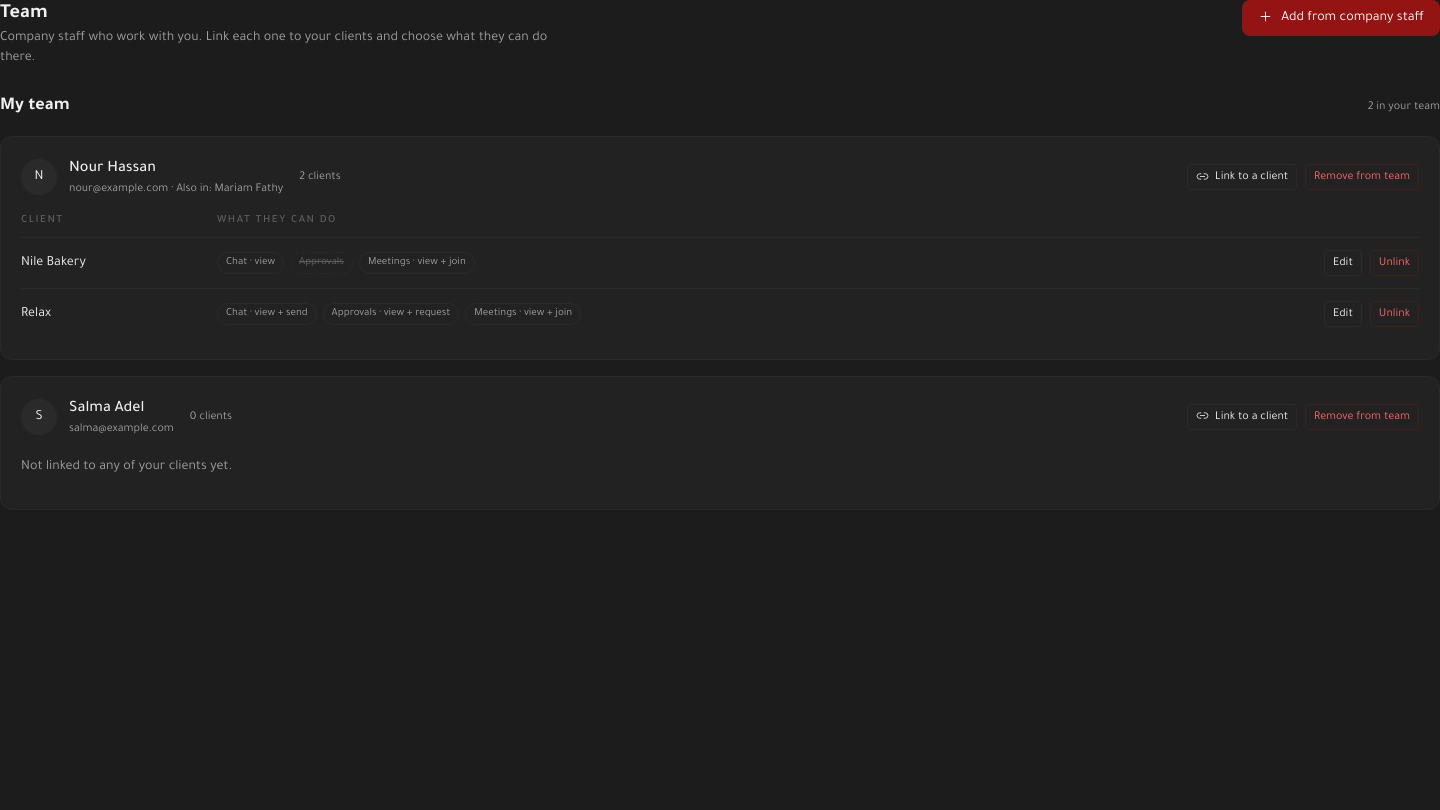
Test case: Team page (classic look) › links a member to a client with the default permissions (everything on)
Click the button "Link to a client" in the row of "0 clients" at (1242, 417), box [1187,404,1297,430]
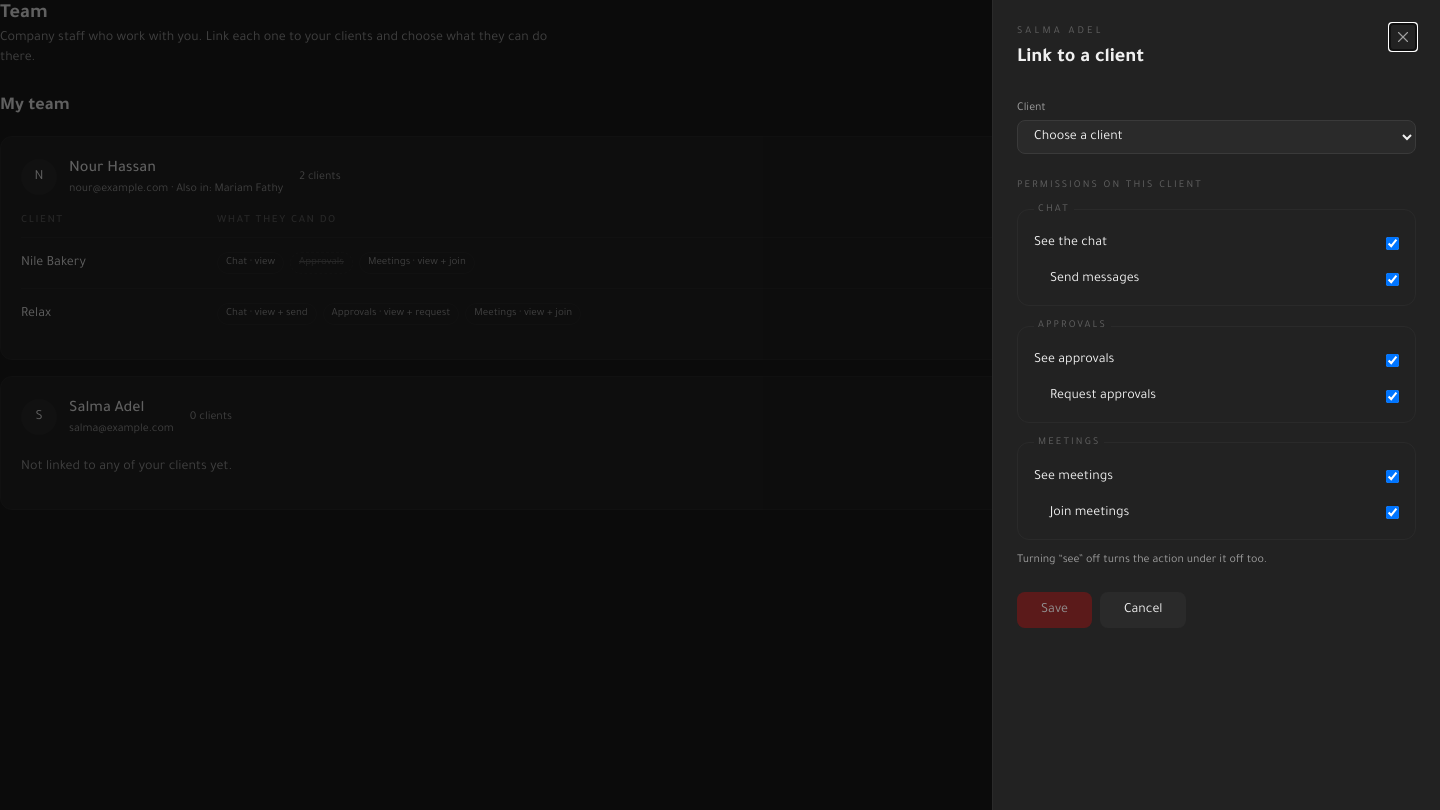
expect the switch labelled "See the chat" is checked: met, box [1386,237,1399,250]
expect the switch labelled "Send messages" is checked: met, box [1386,273,1399,286]
expect the switch labelled "See approvals" is checked: met, box [1386,354,1399,366]
Select "Sun Co" in the dropdown labelled "Client" at (1216, 137), box [1017,120,1416,154]
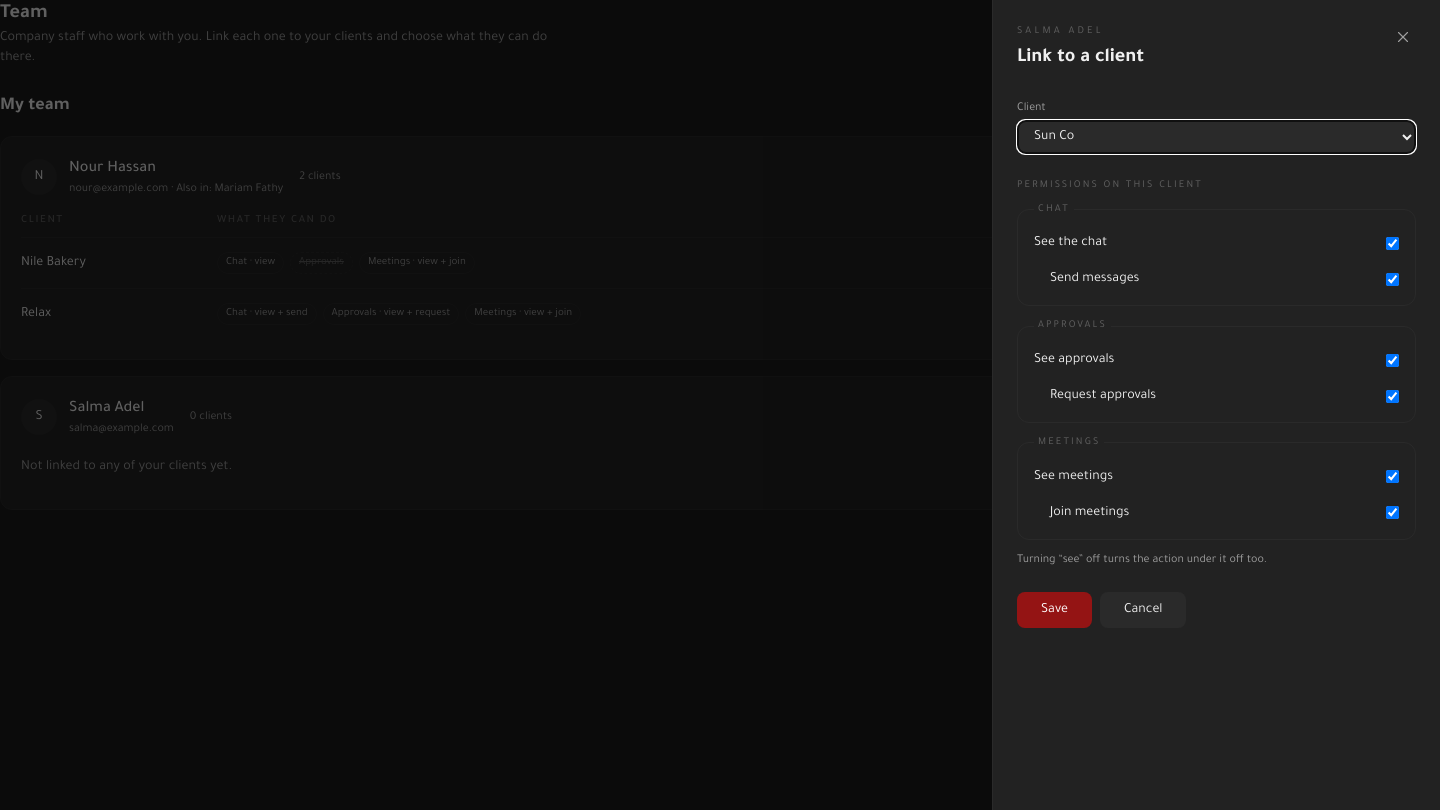
Click the button "Save" at (1054, 610), box [1017,592,1092,628]
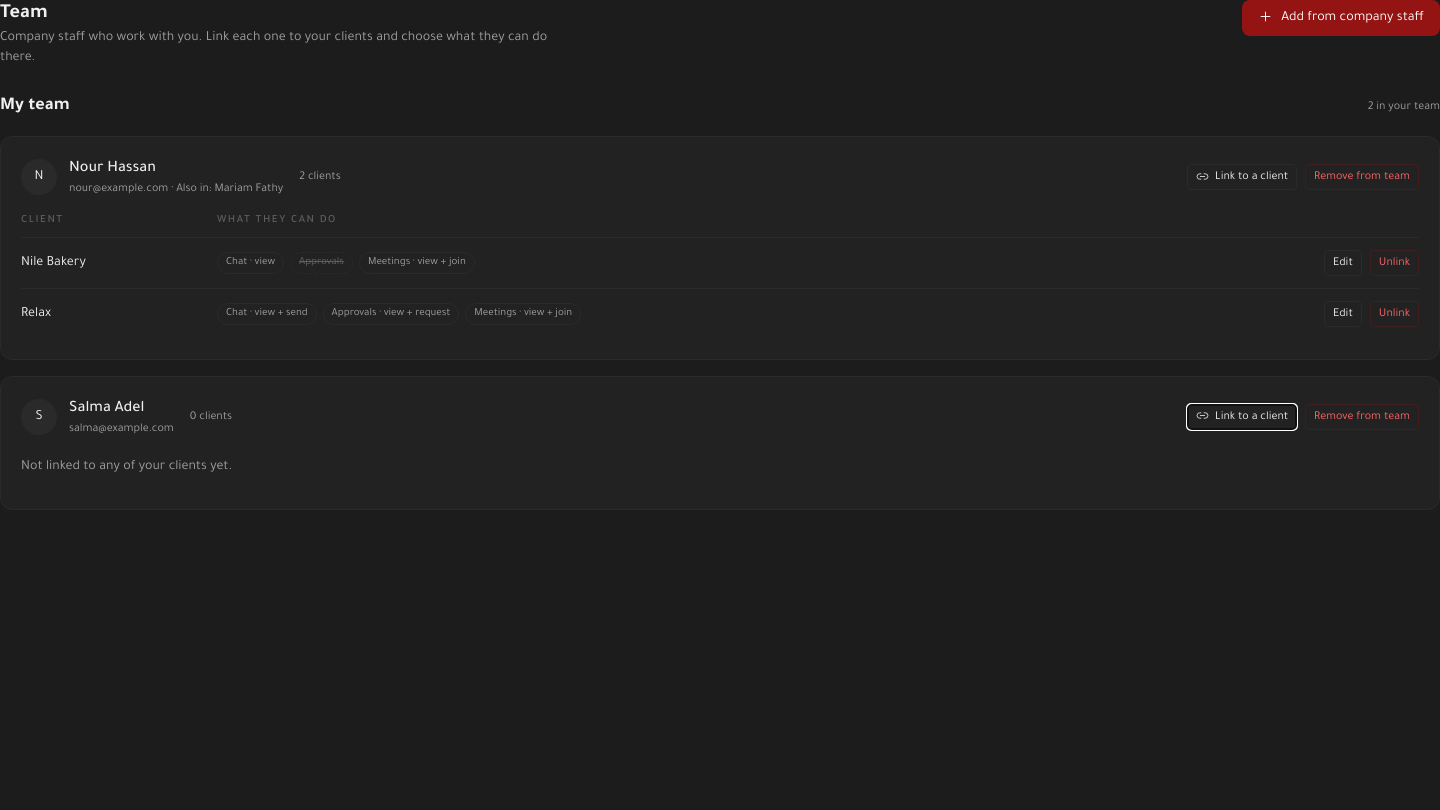
expect the dialog is gone: met
